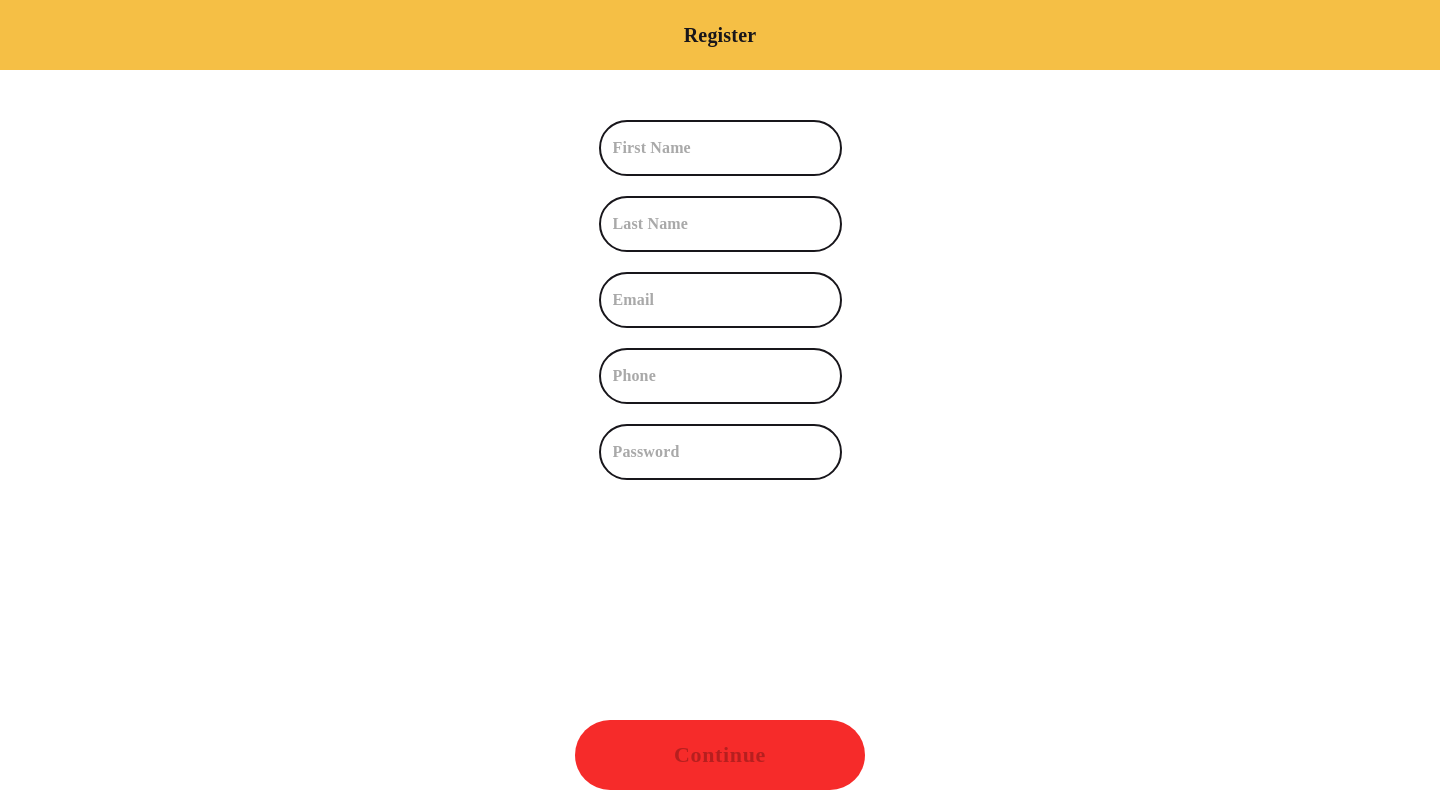
Test: new user registration › email field test
This screenshot has width=1440, height=810.
Type "abcdgmail.com" into the field with test id "emailField" at [728, 300], box [614,272,842,328]
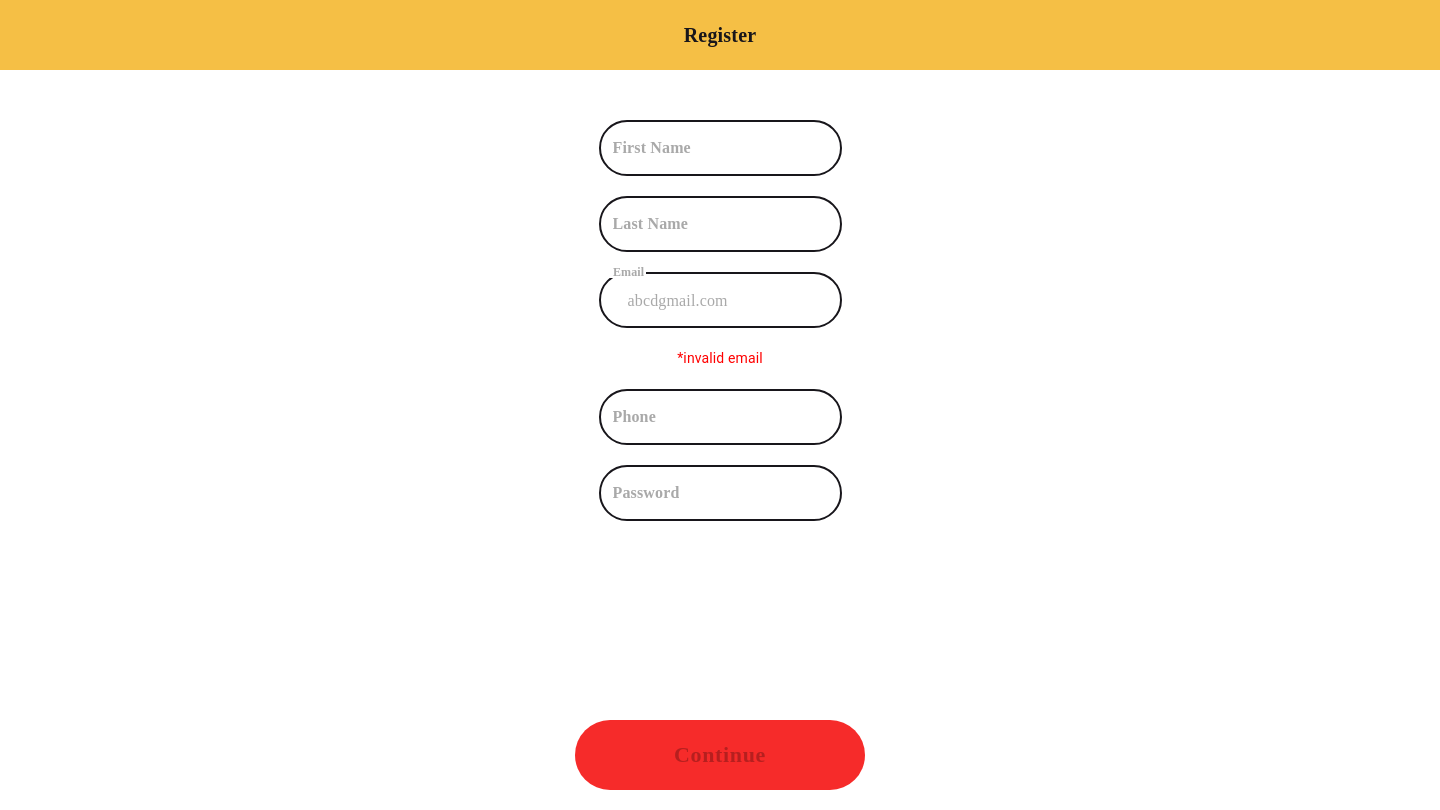
Result: the text "*invalid email" is shown at [677,348,763,369]
